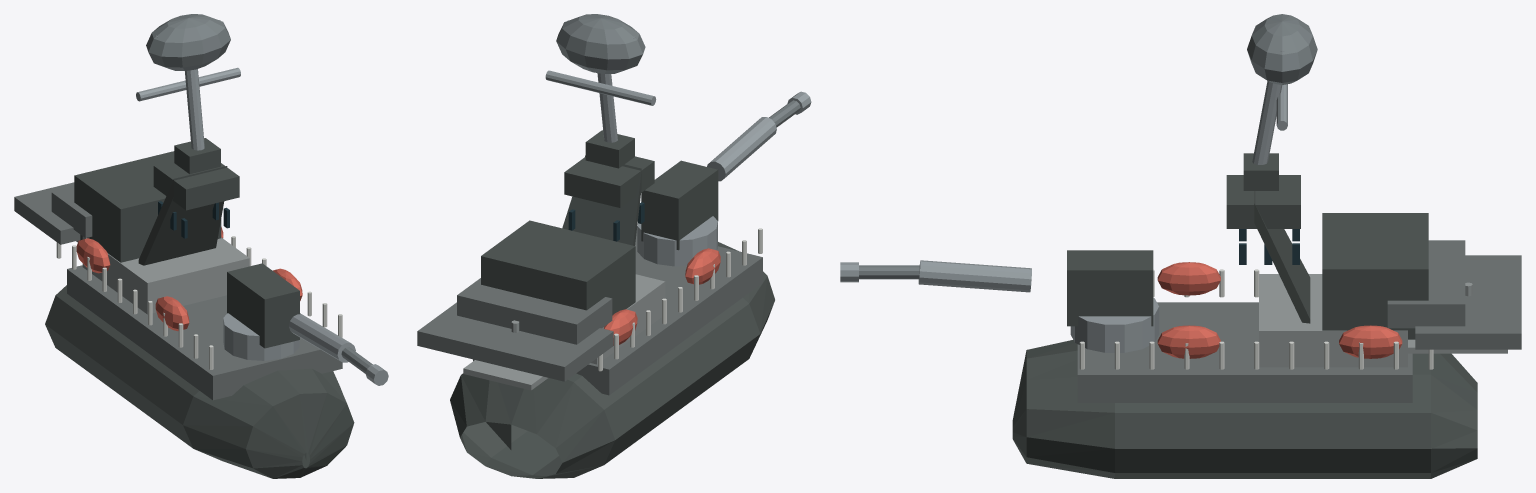
File: fregat-kelas-martadinata.glb
The picture shows the model from 3 angles, left to right: view 1: azimuth 30°, elevation 25°; view 2: azimuth 150°, elevation 25°; view 3: azimuth 270°, elevation 25°; orthographic projection. The views are drawn at different scales.
Parts seen in each view (by area): view 1: fregat-kelas-martadinata; view 2: fregat-kelas-martadinata; view 3: fregat-kelas-martadinata.
Part boxes in pixels (left/top/right/bottom): fregat-kelas-martadinata: left=14, top=14, right=388, bottom=478; fregat-kelas-martadinata: left=417, top=14, right=811, bottom=478; fregat-kelas-martadinata: left=840, top=14, right=1521, bottom=478.
Bounding box in the file's own units: 0.94 × 2.21 × 3.08.
